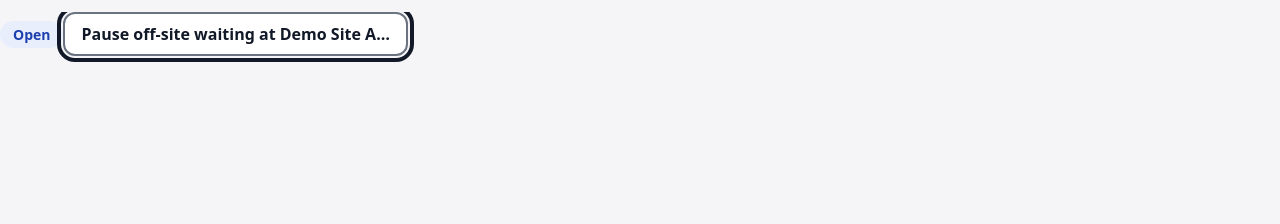
Test: PauseSwitch taps › while a pause is pending, Cancel does not close the question; it closes after the save ends
This screenshot has width=1280, height=224.
Later steps or results of the test are not shown.
Click the button "Pause off-site waiting at Demo Site A…" at (236, 34), box left=64, top=12, right=408, bottom=56
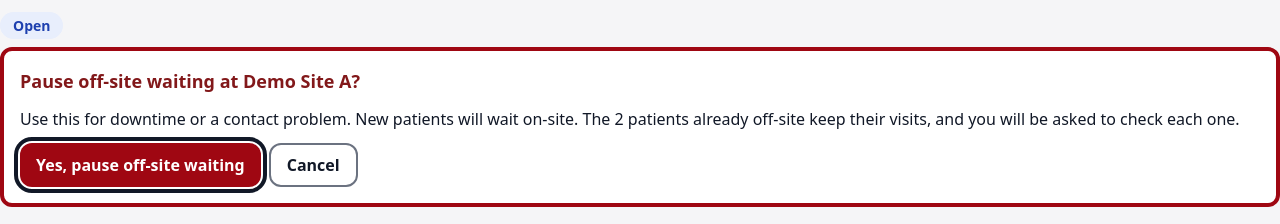
Click the button "Yes, pause off-site waiting" at (140, 165), box left=20, top=143, right=261, bottom=187
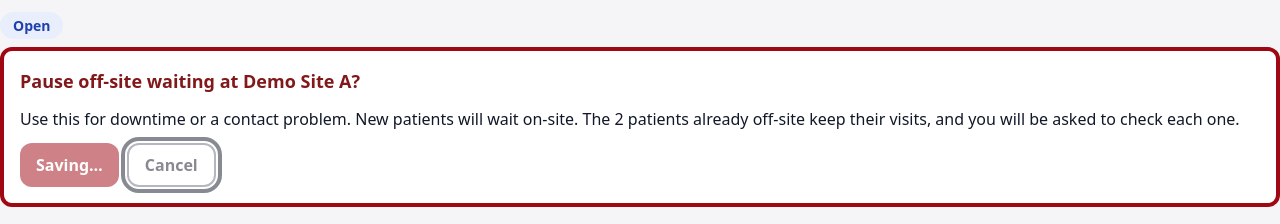
Click the button "Cancel" at (171, 165), box left=127, top=143, right=216, bottom=187
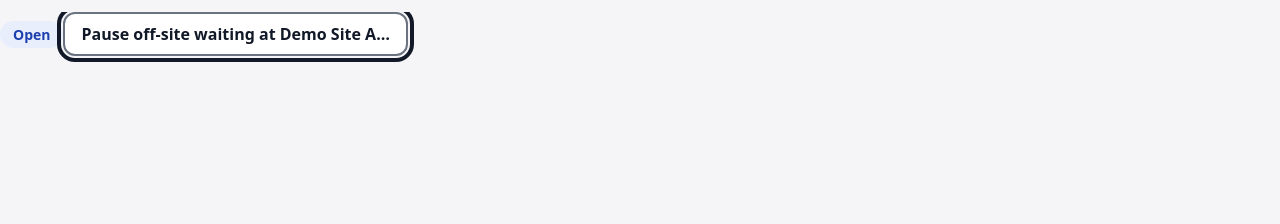
Result: the element with test id "pause-confirm" is gone
